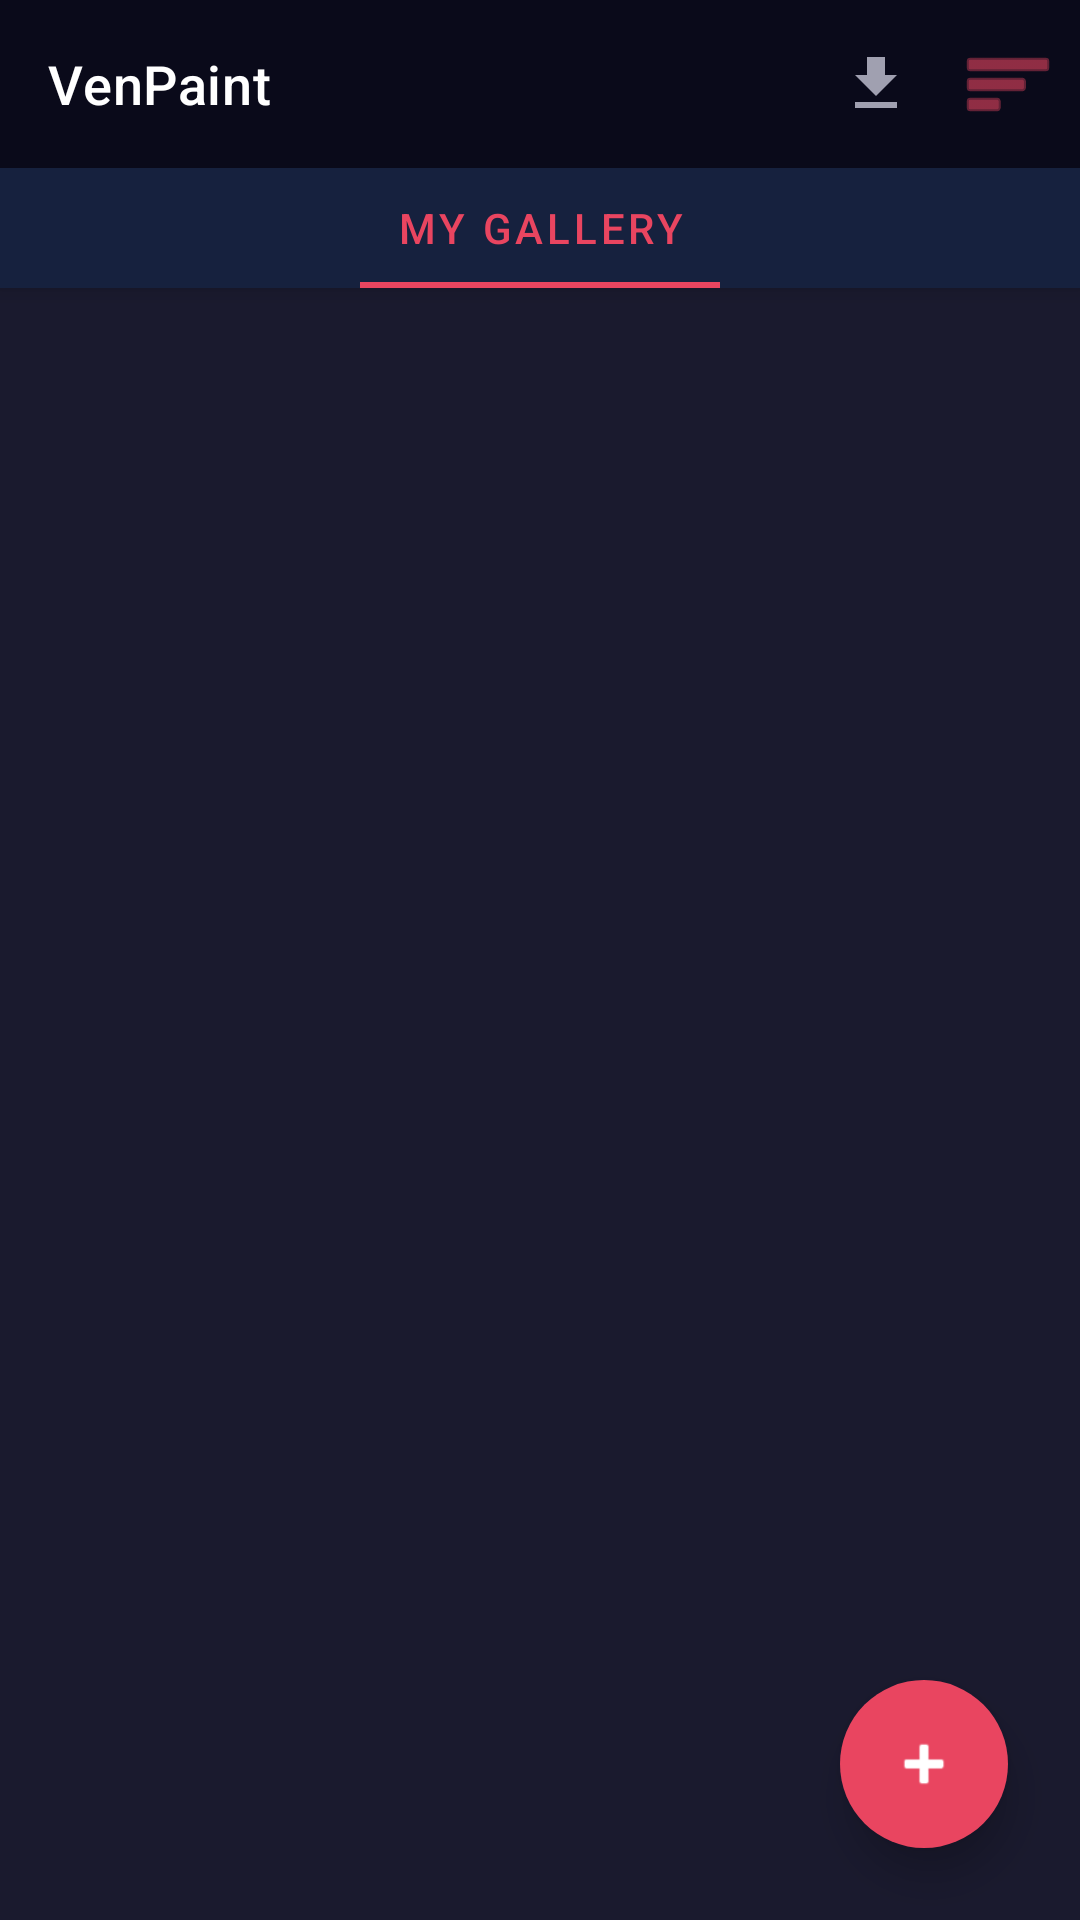

Screen size 1080×1920. Icon name, then its center in pixels as (x,y):
Import: (876,82)
New Canvas: (924,1764)
